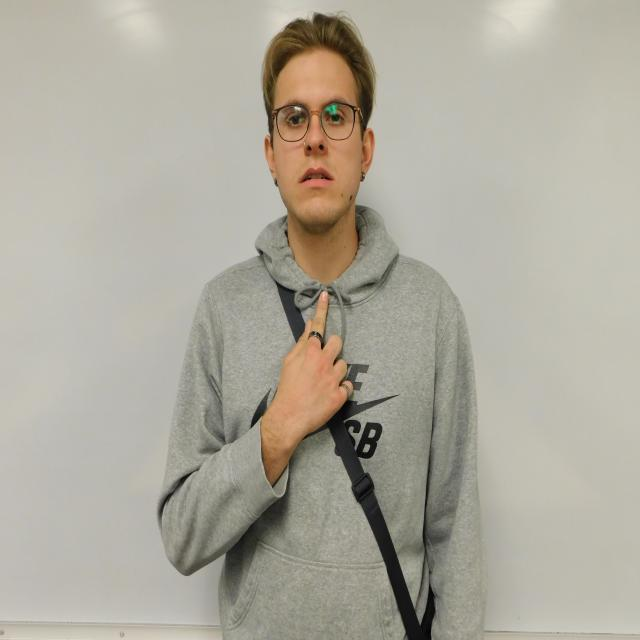I: (272, 291, 354, 434)
